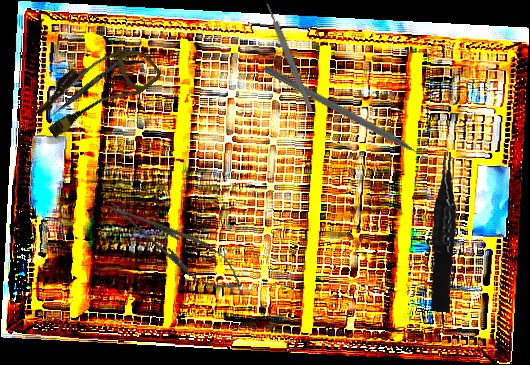Cannula: (28, 27, 164, 151)
Chopper: (257, 64, 439, 176)
Needle Holder: (99, 187, 252, 303)
Scalpel Handle: (264, 1, 315, 114)
Spatula Surgical: (50, 42, 140, 120)
Tissue Forceps: (423, 151, 467, 313)
